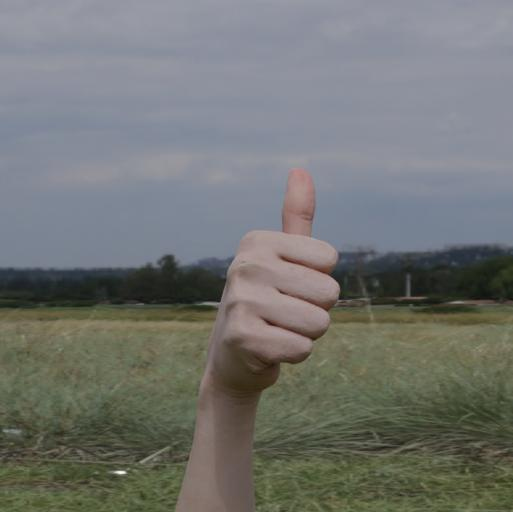thumbs-up: (210, 164, 345, 394)
